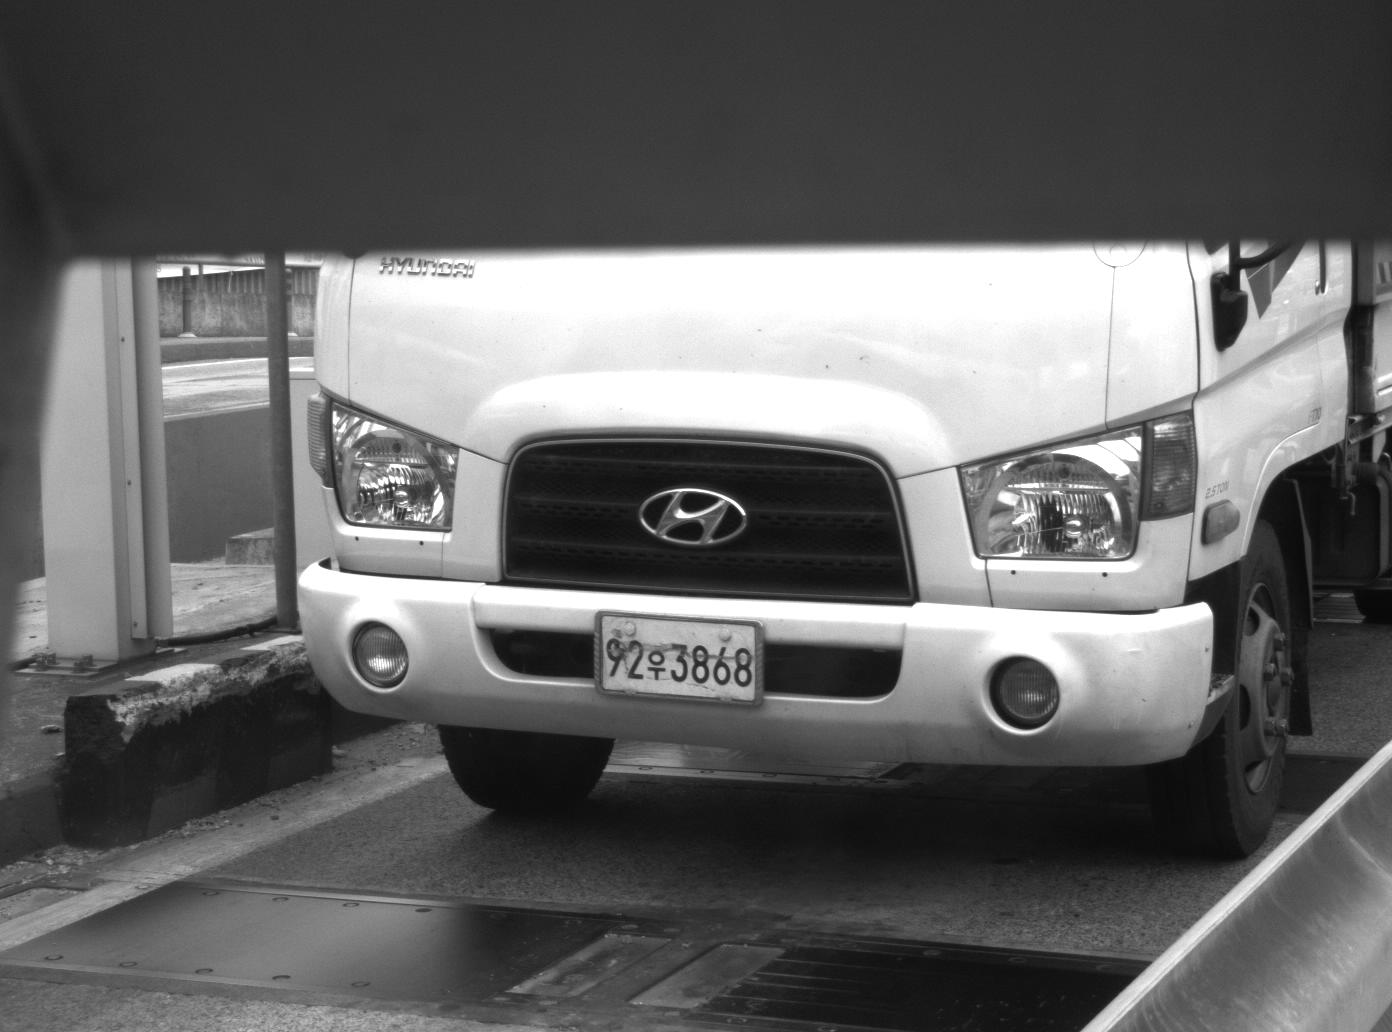car: (296, 258, 1392, 856)
plate: (593, 611, 761, 704)
